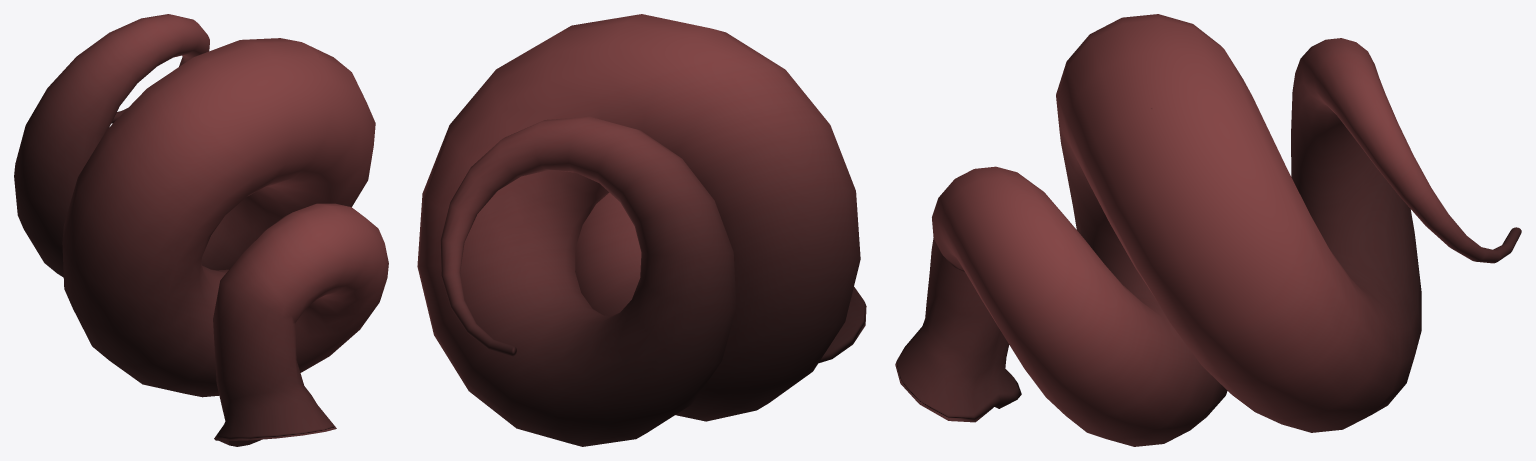
File: spiral.glb
3 renders of one model, left to right at view 1: azimuth 30°, elevation 25°; view 2: azimuth 150°, elevation 25°; view 3: azimuth 270°, elevation 25°, orthographic. The views are drawn at different scales.
Visible parts, largest first — view 1: cs_spiral3; view 2: cs_spiral3; view 3: cs_spiral3.
Part boxes in pixels (left/top/right/bottom): cs_spiral3: left=14, top=14, right=388, bottom=446; cs_spiral3: left=417, top=14, right=866, bottom=446; cs_spiral3: left=895, top=14, right=1521, bottom=446.
Size of the model in its own units: 0.0894 by 0.0866 by 0.1221.
Materials: 1 (1 with a texture image).
